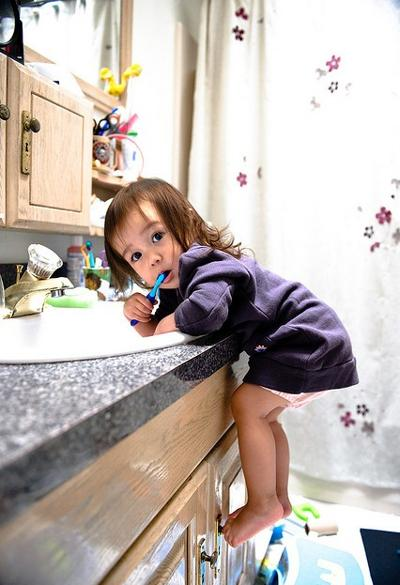person: (105, 180, 358, 549)
